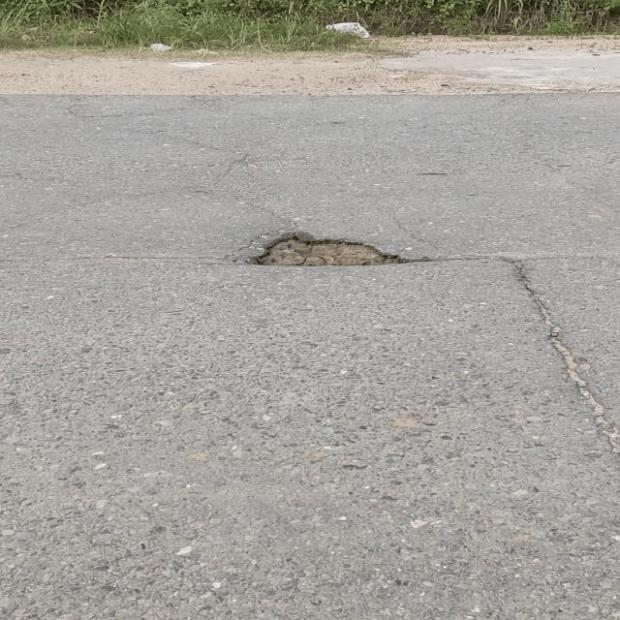lubang: (250, 232, 430, 266)
